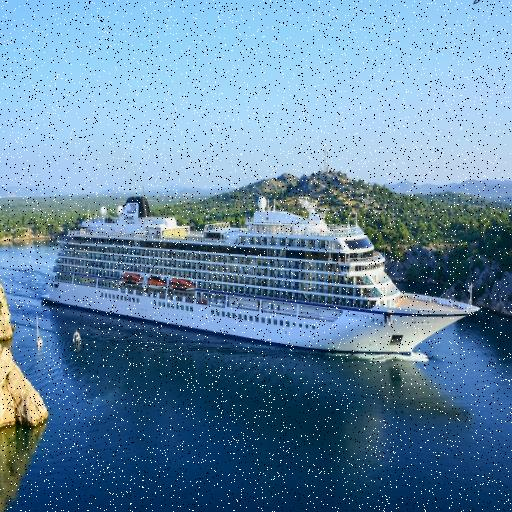cruises: (39, 192, 484, 368)
